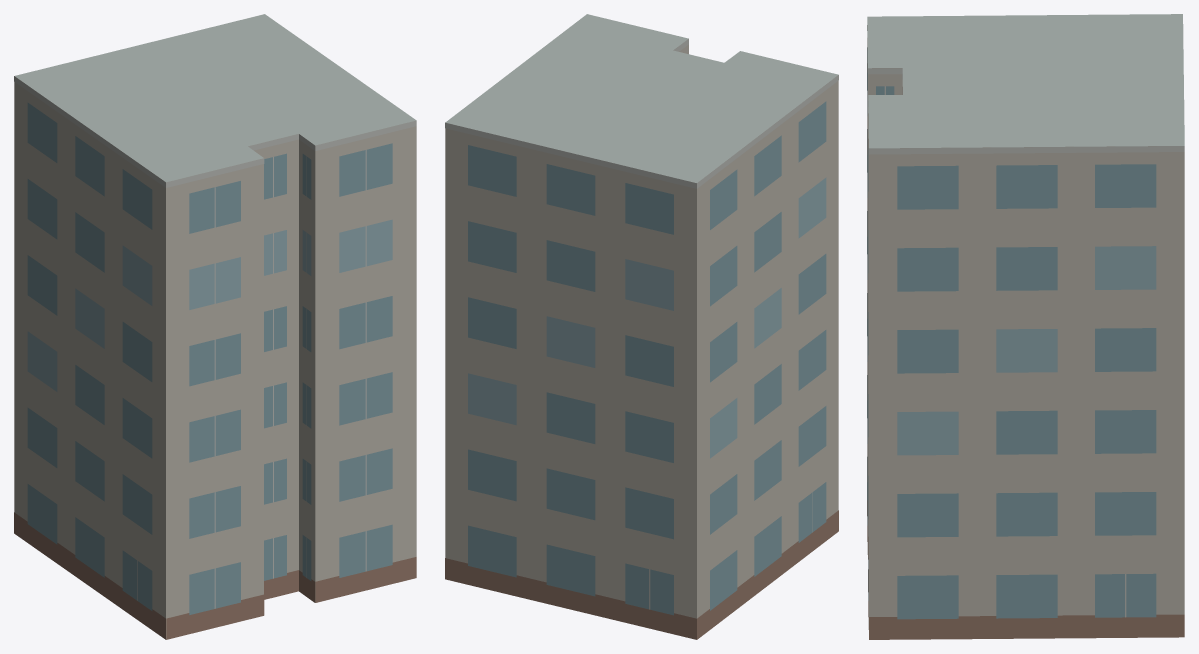
The model's file is survey-upis-32783448.glb.
3 views of the same model, side by side, from view 1: azimuth 30°, elevation 25°; view 2: azimuth 150°, elevation 25°; view 3: azimuth 270°, elevation 25° (orthographic). The views are drawn at different scales.
Visible parts, largest first — view 1: survey-upis-32783448.tmp; view 2: survey-upis-32783448.tmp; view 3: survey-upis-32783448.tmp.
Part boxes in pixels (<box>): survey-upis-32783448.tmp: <box>14,14,416,639</box>; survey-upis-32783448.tmp: <box>445,14,838,639</box>; survey-upis-32783448.tmp: <box>867,14,1184,639</box>.
Bounding box in the file's own units: 11.5 × 19.6 × 11.49.
